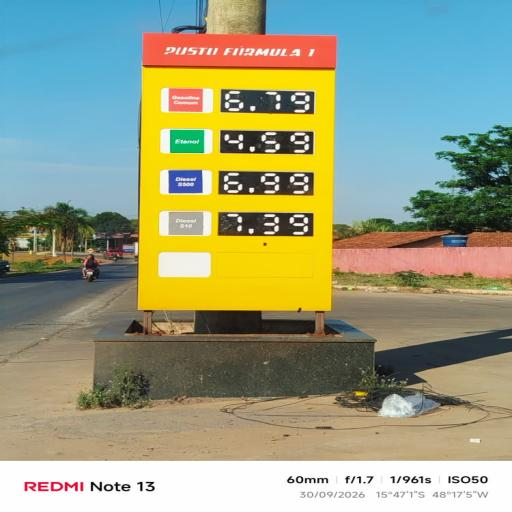ETANOL: (168, 129, 204, 153)
GASOLINA C: (161, 87, 208, 113)
S10: (169, 211, 203, 236)
S500: (166, 170, 205, 195)
placa: (142, 35, 333, 321)
preco: (220, 128, 314, 155), (221, 89, 315, 115), (217, 170, 316, 194), (220, 212, 315, 237)
